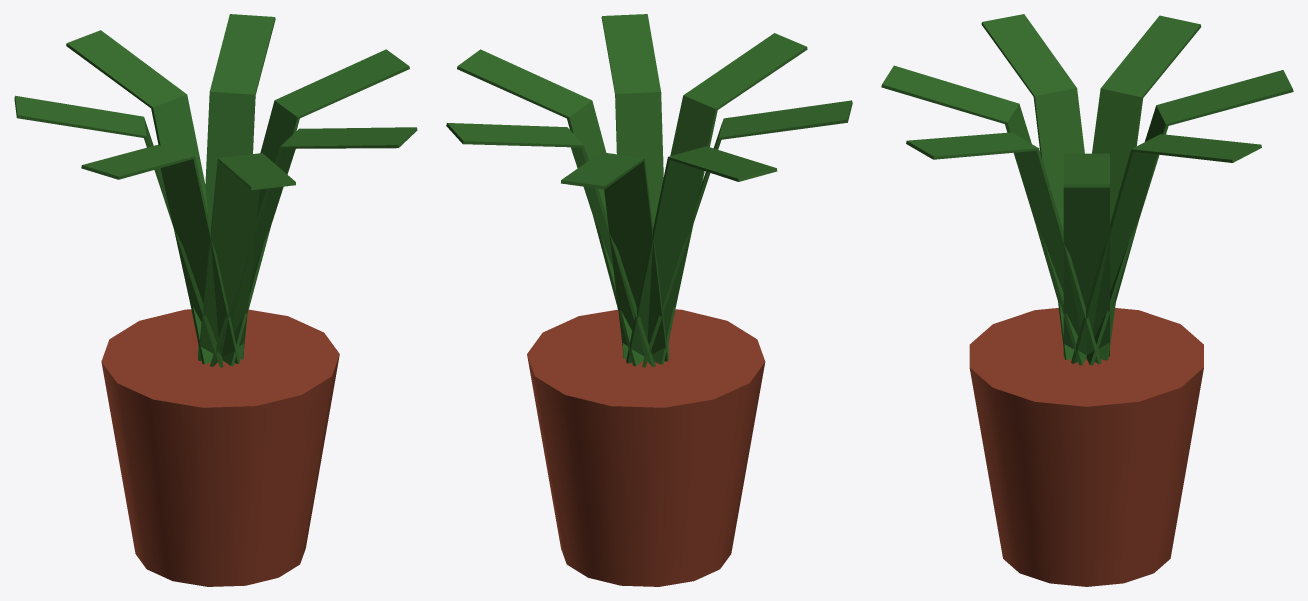
The model's file is home.plant.small.glb.
3 renders of one model, left to right at view 1: azimuth 30°, elevation 25°; view 2: azimuth 150°, elevation 25°; view 3: azimuth 270°, elevation 25°, orthographic.
Visible parts, largest first — view 1: main__clay_tile, main__foliage; view 2: main__clay_tile, main__foliage; view 3: main__clay_tile, main__foliage.
Boxes of the visible parts, x1,y1,x2,y2 form: main__clay_tile: (101, 309, 339, 586); main__foliage: (14, 14, 417, 367); main__clay_tile: (527, 309, 765, 586); main__foliage: (446, 14, 852, 367); main__clay_tile: (969, 308, 1203, 586); main__foliage: (881, 14, 1293, 365).
Bounding box in the file's own units: 0.471 × 0.582 × 0.4799.
